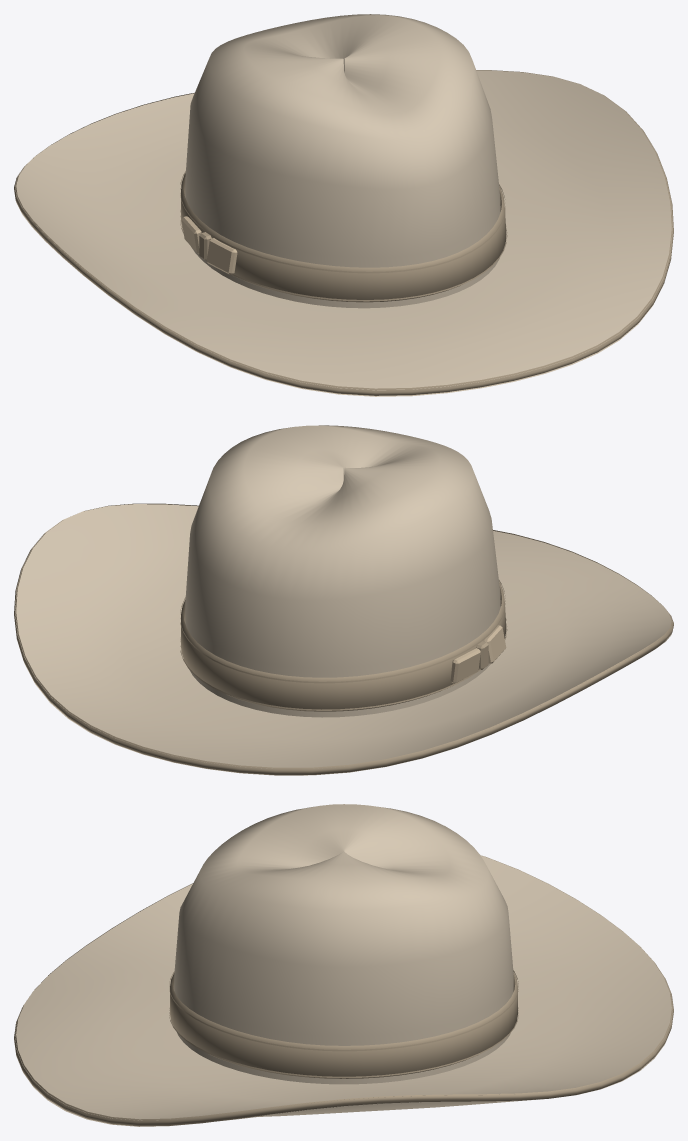
Rendered from ghost-white.glb.
The picture shows the model from 3 angles, top to bottom: view 1: azimuth 30°, elevation 25°; view 2: azimuth 150°, elevation 25°; view 3: azimuth 270°, elevation 25°; orthographic projection. The views are drawn at different scales.
Parts seen in each view (by area): view 1: Felt upper brim, Felt crown, Fitted hatband, Bound brim edge, Felt under brim, Folded ribbon bow.001, Sewn band border.001, Sewn band border; view 2: Felt upper brim, Felt crown, Fitted hatband, Bound brim edge, Sewn band border.001, Folded ribbon bow, Sewn band border, Felt under brim, Folded ribbon bow.001; view 3: Felt crown, Felt upper brim, Fitted hatband, Bound brim edge, Felt under brim, Sewn band border.001, Sewn band border.
Part boxes in pixels (<box>): Felt upper brim: <box>15,70,672,390</box>; Felt crown: <box>185,14,500,308</box>; Fitted hatband: <box>181,173,506,302</box>; Bound brim edge: <box>14,70,673,395</box>; Felt under brim: <box>16,202,663,396</box>; Folded ribbon bow.001: <box>206,238,237,274</box>; Sewn band border.001: <box>180,171,505,273</box>; Sewn band border: <box>180,210,507,301</box>; Felt upper brim: <box>15,504,672,768</box>; Felt crown: <box>185,425,500,717</box>; Fitted hatband: <box>181,581,506,711</box>; Bound brim edge: <box>14,503,673,775</box>; Sewn band border.001: <box>180,580,505,683</box>; Folded ribbon bow: <box>450,648,480,683</box>; Sewn band border: <box>180,619,507,710</box>; Felt under brim: <box>24,633,671,775</box>; Folded ribbon bow.001: <box>484,625,506,663</box>; Felt crown: <box>174,804,513,1084</box>; Felt upper brim: <box>15,855,672,1120</box>; Fitted hatband: <box>170,972,517,1078</box>; Bound brim edge: <box>14,856,673,1126</box>; Felt under brim: <box>23,1031,670,1126</box>; Sewn band border.001: <box>169,970,518,1051</box>; Sewn band border: <box>169,1007,518,1078</box>.
Bounding box in the file's own units: 0.3632 × 0.1276 × 0.3811.
